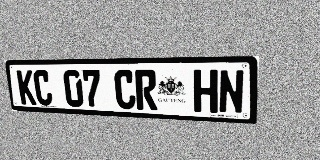0: (63, 70, 84, 107)
7: (81, 70, 103, 108)
C: (114, 70, 136, 109), (33, 70, 53, 106)
H: (194, 70, 218, 113)
K: (16, 70, 37, 105)
N: (218, 69, 245, 114)
R: (135, 70, 157, 110)
